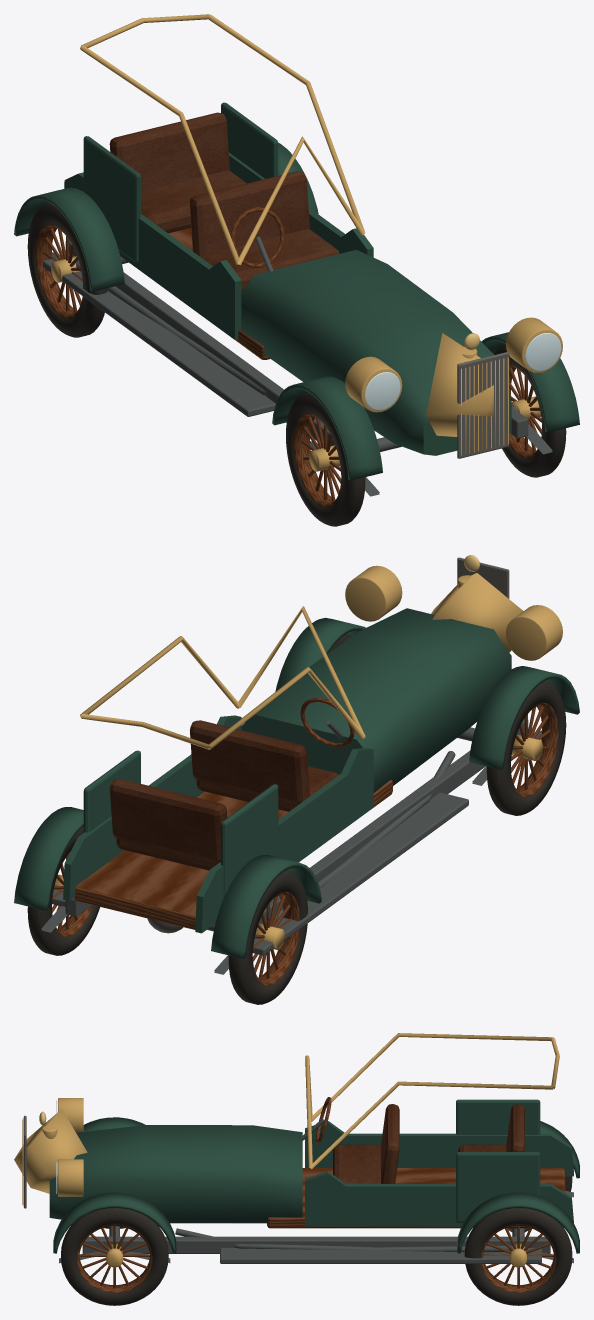
Rendered from Mercedes_37_90_1912_LOD0.fbx.
3 renders of one model, top to bottom at view 1: azimuth 30°, elevation 25°; view 2: azimuth 150°, elevation 25°; view 3: azimuth 270°, elevation 25°, orthographic. The views are drawn at different scales.
Parts seen in each view (by area): view 1: Mercedes_37_90_1912_Body_Root_OPT_Merged_MERCEDES_Paint_Deep, Mercedes_37_90_1912_Body_Root_OPT_Merged_RB_Leather_Saddle_O, Mercedes_37_90_1912_Body_Root_OPT_Merged_RB_Brass_Aged_OPT_D, Mercedes_37_90_1912_Body_Root_OPT_Merged_RB_Steel_Blackened_, Mercedes_37_90_1912_Chassis_Root_OPT_Merged_RB_Steel_Blacken, Mercedes_37_90_1912_Radiator_Core_OPT, Mercedes_37_90_1912_Wheel_FL_Tire_OPT, Mercedes_37_90_1912_Wheel_RL_Tire_OPT, Mercedes_37_90_1912_Wheel_FL_Spin_OPT_Merged_RB_Wood_Walnut_, Mercedes_37_90_1912_Wheel_RL_Spin_OPT_Merged_RB_Wood_Walnut_, Mercedes_37_90_1912_Body_Root_OPT_Merged_RB_Acetylene_Glass_, Mercedes_37_90_1912_Wheel_FR_Tire_OPT (+3 smaller); view 2: Mercedes_37_90_1912_Body_Root_OPT_Merged_MERCEDES_Paint_Deep, Mercedes_37_90_1912_Body_Root_OPT_Merged_RB_Leather_Saddle_O, Mercedes_37_90_1912_Body_Root_OPT_Merged_RB_Brass_Aged_OPT_D, Mercedes_37_90_1912_Cabin_Floor_OPT, Mercedes_37_90_1912_Body_Root_OPT_Merged_RB_Steel_Blackened_, Mercedes_37_90_1912_Chassis_Root_OPT_Merged_RB_Steel_Blacken, Mercedes_37_90_1912_Wheel_FL_Tire_OPT, Mercedes_37_90_1912_Wheel_RL_Tire_OPT, Mercedes_37_90_1912_Wheel_FL_Spin_OPT_Merged_RB_Wood_Walnut_, Mercedes_37_90_1912_Wheel_RL_Spin_OPT_Merged_RB_Wood_Walnut_, Mercedes_37_90_1912_Wheel_RR_Tire_OPT, Mercedes_37_90_1912_Radiator_Core_OPT (+2 smaller); view 3: Mercedes_37_90_1912_Body_Root_OPT_Merged_MERCEDES_Paint_Deep, Mercedes_37_90_1912_Body_Root_OPT_Merged_RB_Brass_Aged_OPT_D, Mercedes_37_90_1912_Body_Root_OPT_Merged_RB_Steel_Blackened_, Mercedes_37_90_1912_Chassis_Root_OPT_Merged_RB_Steel_Blacken, Mercedes_37_90_1912_Wheel_FR_Tire_OPT, Mercedes_37_90_1912_Wheel_RR_Tire_OPT, Mercedes_37_90_1912_Body_Root_OPT_Merged_RB_Leather_Saddle_O, Mercedes_37_90_1912_Cabin_Floor_OPT, Mercedes_37_90_1912_Wheel_FR_Spin_OPT_Merged_RB_Wood_Walnut_, Mercedes_37_90_1912_Wheel_RR_Spin_OPT_Merged_RB_Wood_Walnut_, Mercedes_37_90_1912_Radiator_Core_OPT.
Part boxes in pixels (x1=…): Mercedes_37_90_1912_Body_Root_OPT_Merged_MERCEDES_Paint_Deep: x1=14, y1=102, x2=579, y2=480; Mercedes_37_90_1912_Body_Root_OPT_Merged_RB_Leather_Saddle_O: x1=109, y1=112, x2=339, y2=291; Mercedes_37_90_1912_Body_Root_OPT_Merged_RB_Brass_Aged_OPT_D: x1=80, y1=14, x2=562, y2=455; Mercedes_37_90_1912_Body_Root_OPT_Merged_RB_Steel_Blackened_: x1=42, y1=254, x2=275, y2=416; Mercedes_37_90_1912_Chassis_Root_OPT_Merged_RB_Steel_Blacken: x1=52, y1=240, x2=552, y2=496; Mercedes_37_90_1912_Radiator_Core_OPT: x1=457, y1=352, x2=509, y2=458; Mercedes_37_90_1912_Wheel_FL_Tire_OPT: x1=286, y1=392, x2=365, y2=526; Mercedes_37_90_1912_Wheel_RL_Tire_OPT: x1=27, y1=203, x2=107, y2=337; Mercedes_37_90_1912_Wheel_FL_Spin_OPT_Merged_RB_Wood_Walnut_: x1=293, y1=413, x2=341, y2=507; Mercedes_37_90_1912_Wheel_RL_Spin_OPT_Merged_RB_Wood_Walnut_: x1=35, y1=224, x2=82, y2=318; Mercedes_37_90_1912_Body_Root_OPT_Merged_RB_Acetylene_Glass_: x1=364, y1=333, x2=561, y2=410; Mercedes_37_90_1912_Wheel_FR_Tire_OPT: x1=494, y1=344, x2=566, y2=477; Mercedes_37_90_1912_Body_Root_OPT_Merged_MERCEDES_Paint_Deep: x1=14, y1=608, x2=579, y2=958; Mercedes_37_90_1912_Body_Root_OPT_Merged_RB_Leather_Saddle_O: x1=109, y1=720, x2=338, y2=870; Mercedes_37_90_1912_Body_Root_OPT_Merged_RB_Brass_Aged_OPT_D: x1=80, y1=565, x2=562, y2=749; Mercedes_37_90_1912_Cabin_Floor_OPT: x1=74, y1=780, x2=392, y2=929; Mercedes_37_90_1912_Body_Root_OPT_Merged_RB_Steel_Blackened_: x1=52, y1=751, x2=468, y2=955; Mercedes_37_90_1912_Chassis_Root_OPT_Merged_RB_Steel_Blacken: x1=41, y1=719, x2=541, y2=974; Mercedes_37_90_1912_Wheel_FL_Tire_OPT: x1=486, y1=681, x2=566, y2=815; Mercedes_37_90_1912_Wheel_RL_Tire_OPT: x1=228, y1=870, x2=307, y2=1004; Mercedes_37_90_1912_Wheel_FL_Spin_OPT_Merged_RB_Wood_Walnut_: x1=510, y1=703, x2=558, y2=796; Mercedes_37_90_1912_Wheel_RL_Spin_OPT_Merged_RB_Wood_Walnut_: x1=252, y1=891, x2=299, y2=985; Mercedes_37_90_1912_Wheel_RR_Tire_OPT: x1=27, y1=826, x2=99, y2=955; Mercedes_37_90_1912_Radiator_Core_OPT: x1=457, y1=557, x2=509, y2=598; Mercedes_37_90_1912_Body_Root_OPT_Merged_MERCEDES_Paint_Deep: x1=49, y1=1099, x2=579, y2=1253; Mercedes_37_90_1912_Body_Root_OPT_Merged_RB_Brass_Aged_OPT_D: x1=14, y1=1033, x2=559, y2=1204; Mercedes_37_90_1912_Body_Root_OPT_Merged_RB_Steel_Blackened_: x1=175, y1=1228, x2=541, y2=1263; Mercedes_37_90_1912_Chassis_Root_OPT_Merged_RB_Steel_Blacken: x1=59, y1=1190, x2=573, y2=1263; Mercedes_37_90_1912_Wheel_FR_Tire_OPT: x1=61, y1=1208, x2=168, y2=1305; Mercedes_37_90_1912_Wheel_RR_Tire_OPT: x1=464, y1=1208, x2=572, y2=1305; Mercedes_37_90_1912_Body_Root_OPT_Merged_RB_Leather_Saddle_O: x1=333, y1=1104, x2=524, y2=1183; Mercedes_37_90_1912_Cabin_Floor_OPT: x1=267, y1=1168, x2=565, y2=1228; Mercedes_37_90_1912_Wheel_FR_Spin_OPT_Merged_RB_Wood_Walnut_: x1=77, y1=1224, x2=152, y2=1292; Mercedes_37_90_1912_Wheel_RR_Spin_OPT_Merged_RB_Wood_Walnut_: x1=481, y1=1224, x2=556, y2=1292; Mercedes_37_90_1912_Radiator_Core_OPT: x1=23, y1=1115, x2=26, y2=1208.
Bounding box in the file's own units: 177 × 200 × 484.
Materials: 9 (2 with a texture image).
